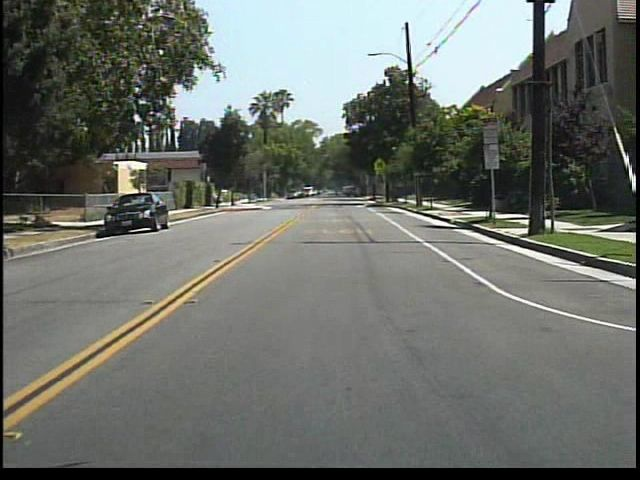person: (330, 181, 345, 199)
